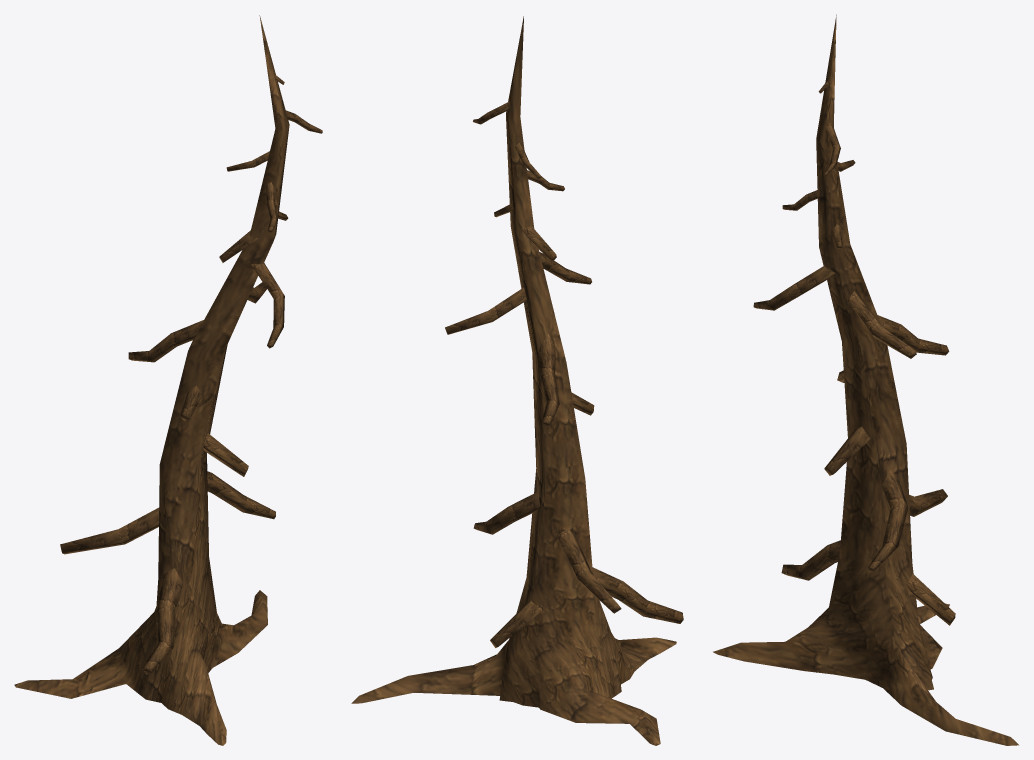
File: Dead tree.fbx
The picture shows the model from 3 angles, left to right: view 1: azimuth 30°, elevation 25°; view 2: azimuth 150°, elevation 25°; view 3: azimuth 270°, elevation 25°; orthographic projection. The views are drawn at different scales.
Visible parts, largest first — view 1: DeadPineTree01; view 2: DeadPineTree01; view 3: DeadPineTree01.
Boxes of the visible parts, x1=… form: DeadPineTree01: x1=14, y1=15, x2=322, y2=745; DeadPineTree01: x1=351, y1=16, x2=683, y2=745; DeadPineTree01: x1=713, y1=14, x2=1018, y2=745.
Size of the model in its own units: 2.67 by 2.44 by 6.02.
